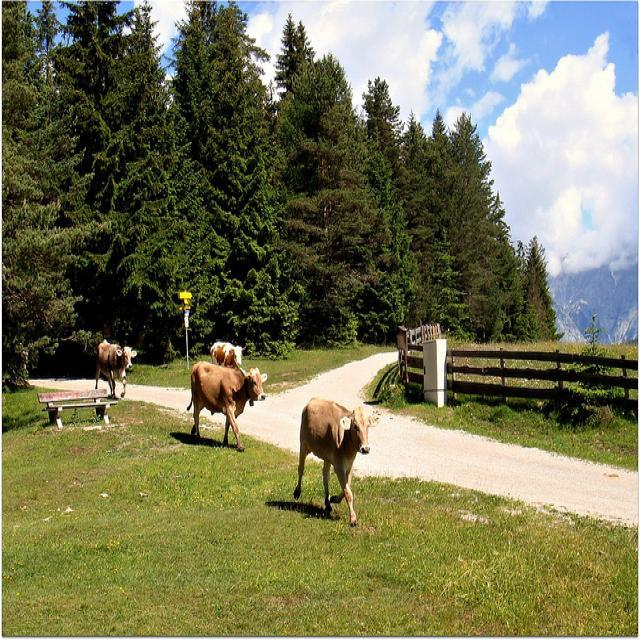cow: (292, 397, 379, 523), (185, 359, 266, 449), (94, 334, 136, 397), (209, 339, 244, 367)
